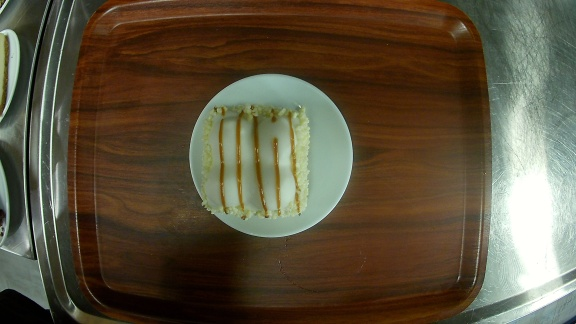beyazpasta: (187, 75, 354, 238)
